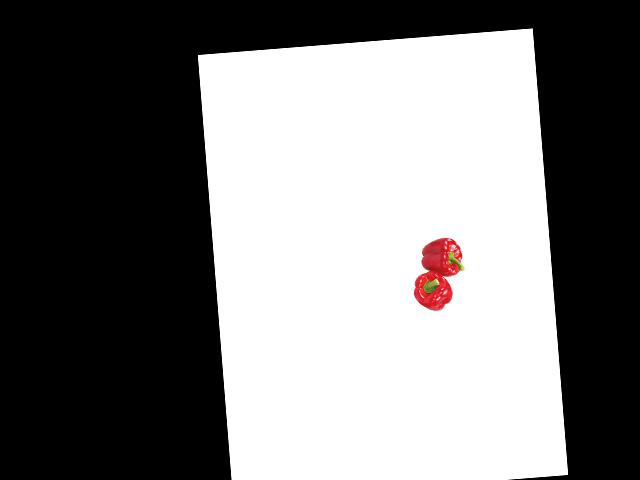bell_pepper: (416, 235, 466, 280)
